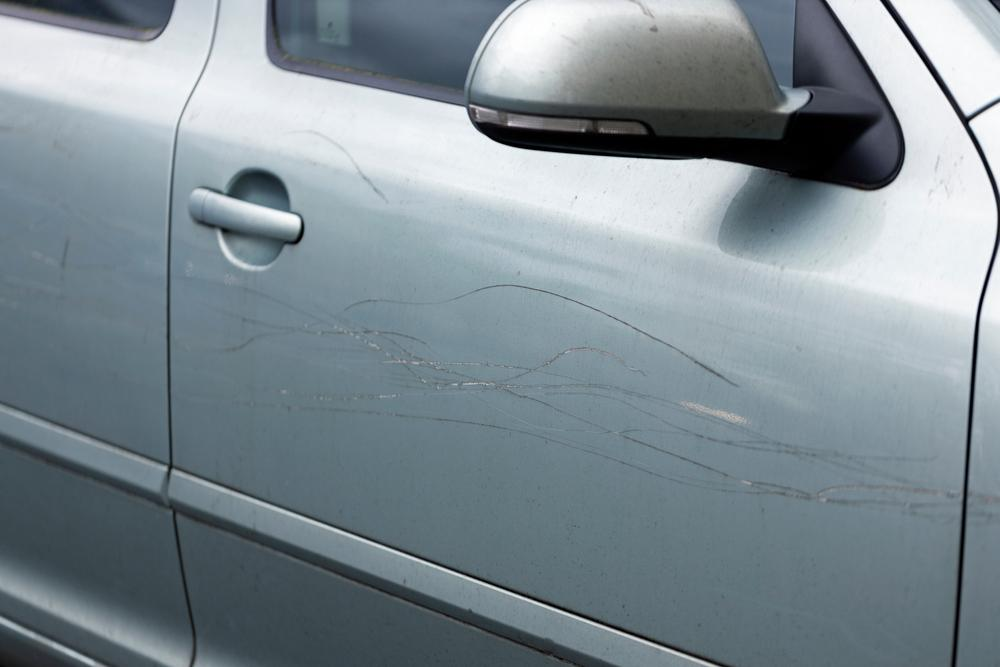scratch: (210, 279, 968, 522)
